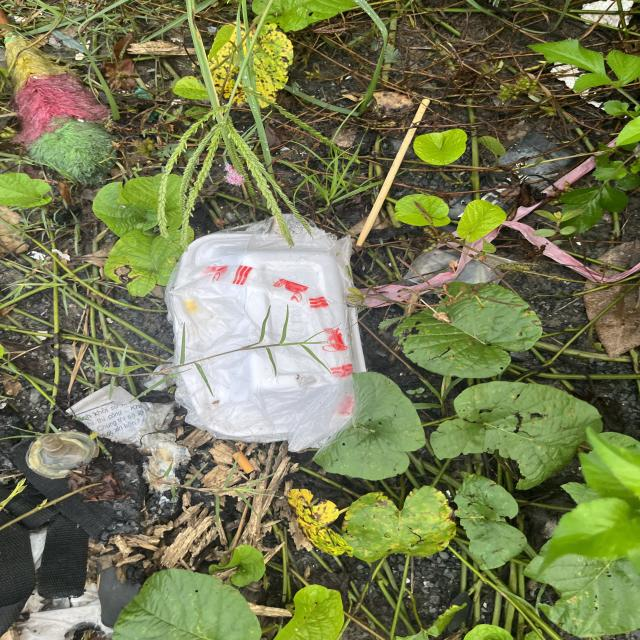trash bag: (144, 213, 368, 453)
